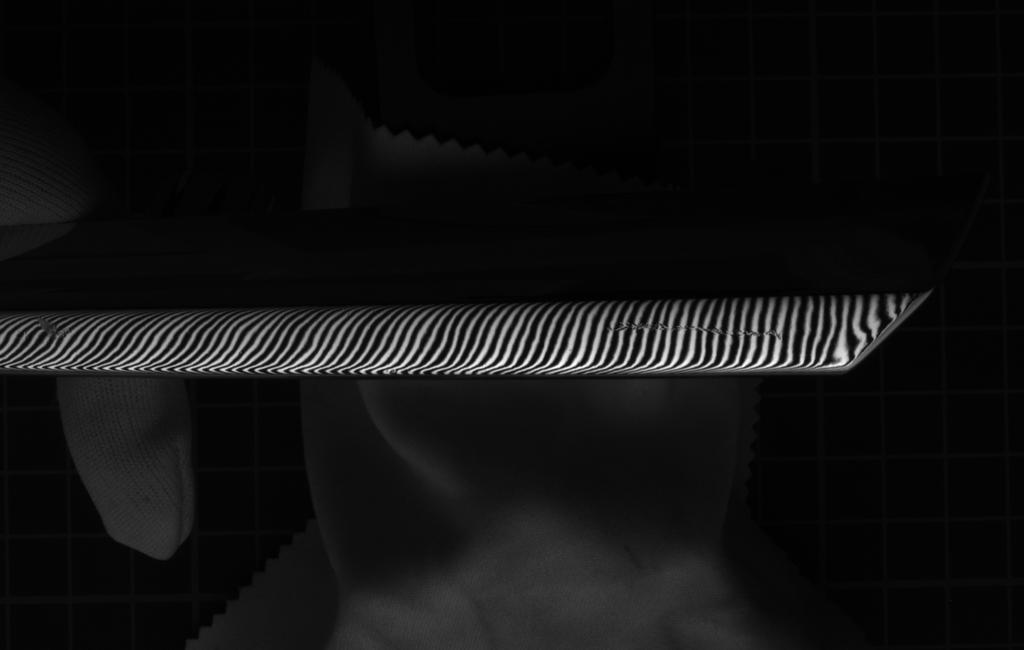Scratch: (591, 316, 790, 348)
